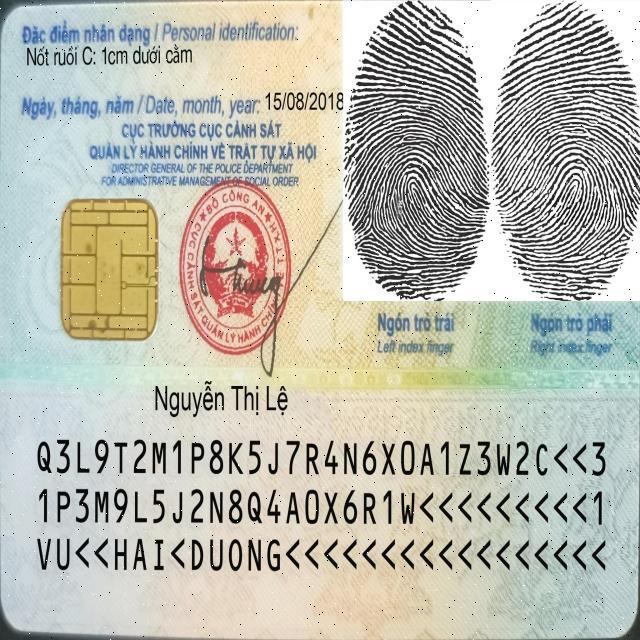features: (19, 32, 207, 74)
finger_print: (491, 2, 640, 360), (344, 1, 491, 360)
issue_date: (261, 82, 345, 118)
